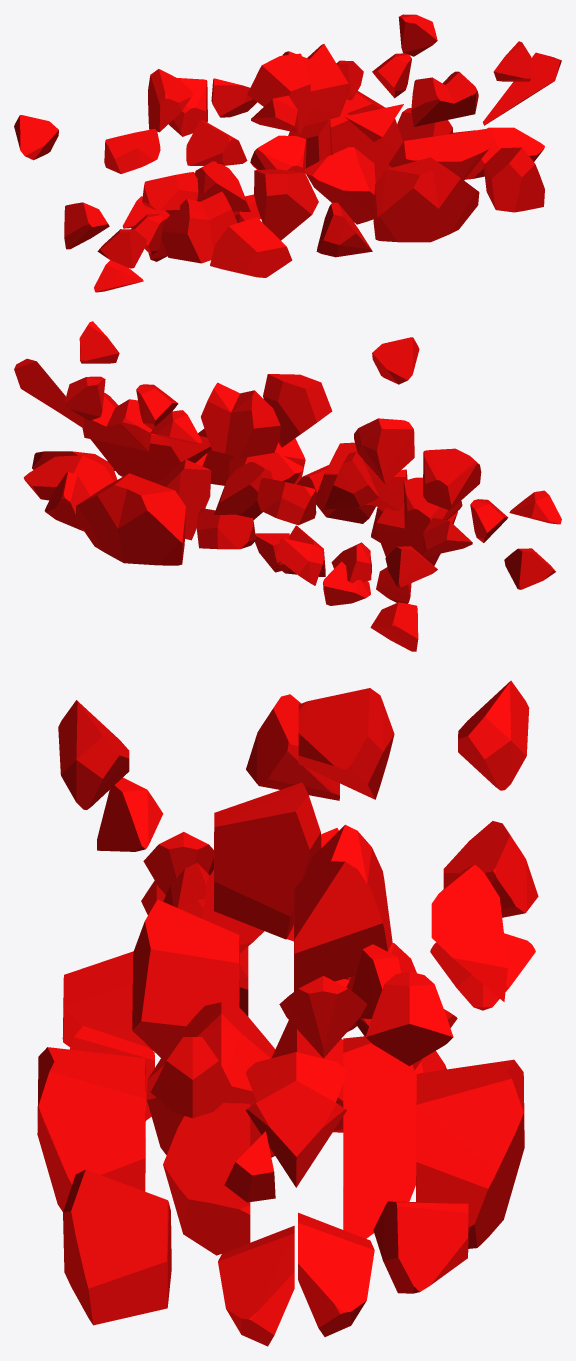
File: Env_Heart_02a.fbx
3 renders of one model, top to bottom at view 1: azimuth 30°, elevation 25°; view 2: azimuth 150°, elevation 25°; view 3: azimuth 270°, elevation 25°, orthographic. The views are drawn at different scales.
Parts seen in each view (by area): view 1: Cube.009_cell.148; view 2: Cube.009_cell.148; view 3: Cube.009_cell.148.
Boxes of the visible parts, box(x1,y1,x2,y2) form: Cube.009_cell.148: box(14, 14, 561, 292); Cube.009_cell.148: box(14, 321, 561, 651); Cube.009_cell.148: box(37, 680, 538, 1346).
Bounding box in the file's own units: 300 × 117 × 133.
